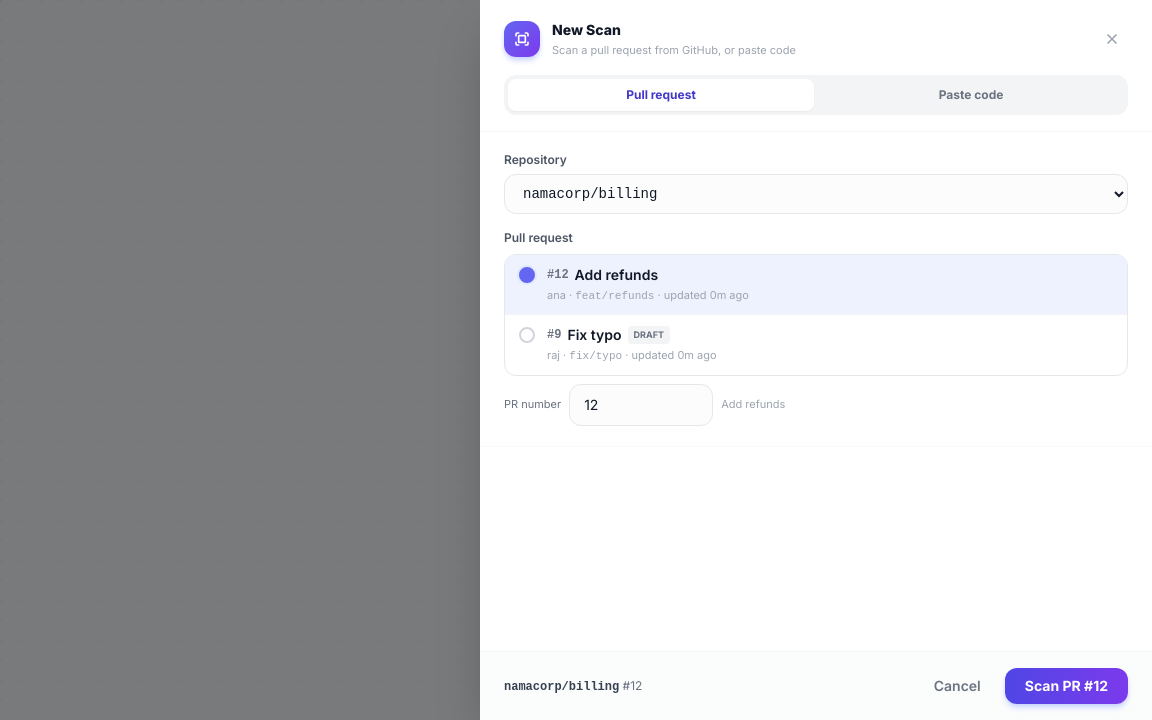
shows the server's reason when a scan can't start
Expected: the radio button labelled "#12 Add refunds ana · feat/refunds · updated 0m ago" is shown, [505,254,1127,314]
Step 1. Click the button "Scan PR #12" → (1066, 686), box [1005,668,1128,704]
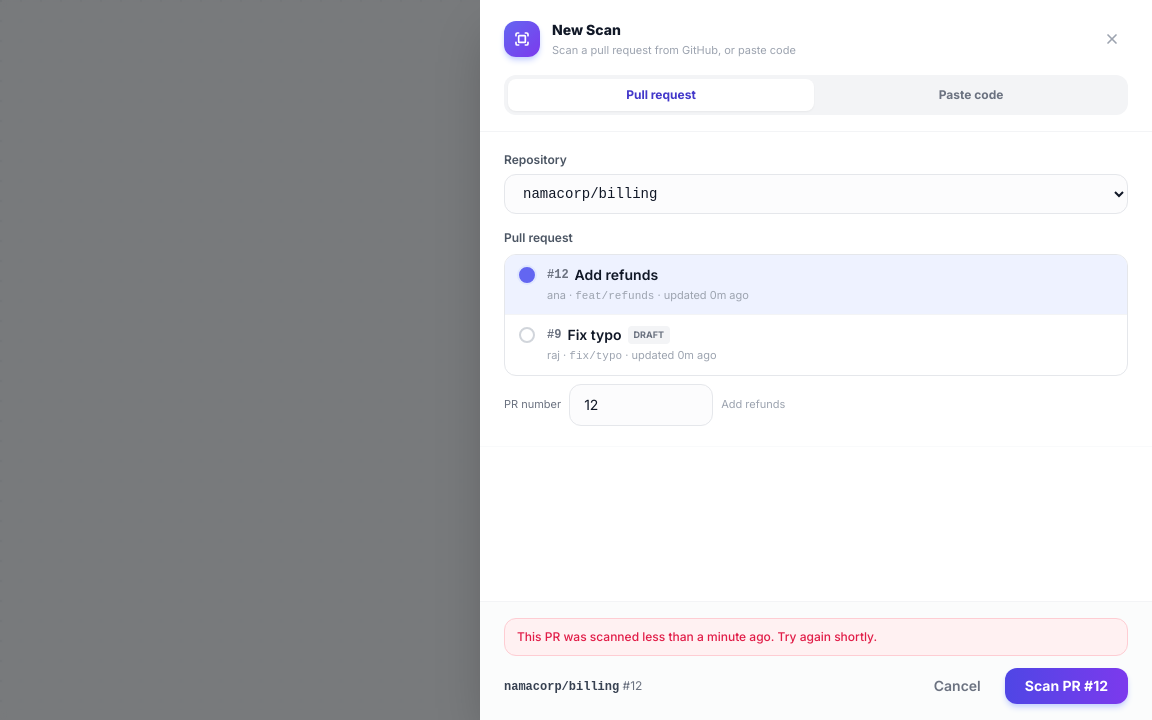
Now the message shows "less than a minute ago", box [517,629,877,644]
